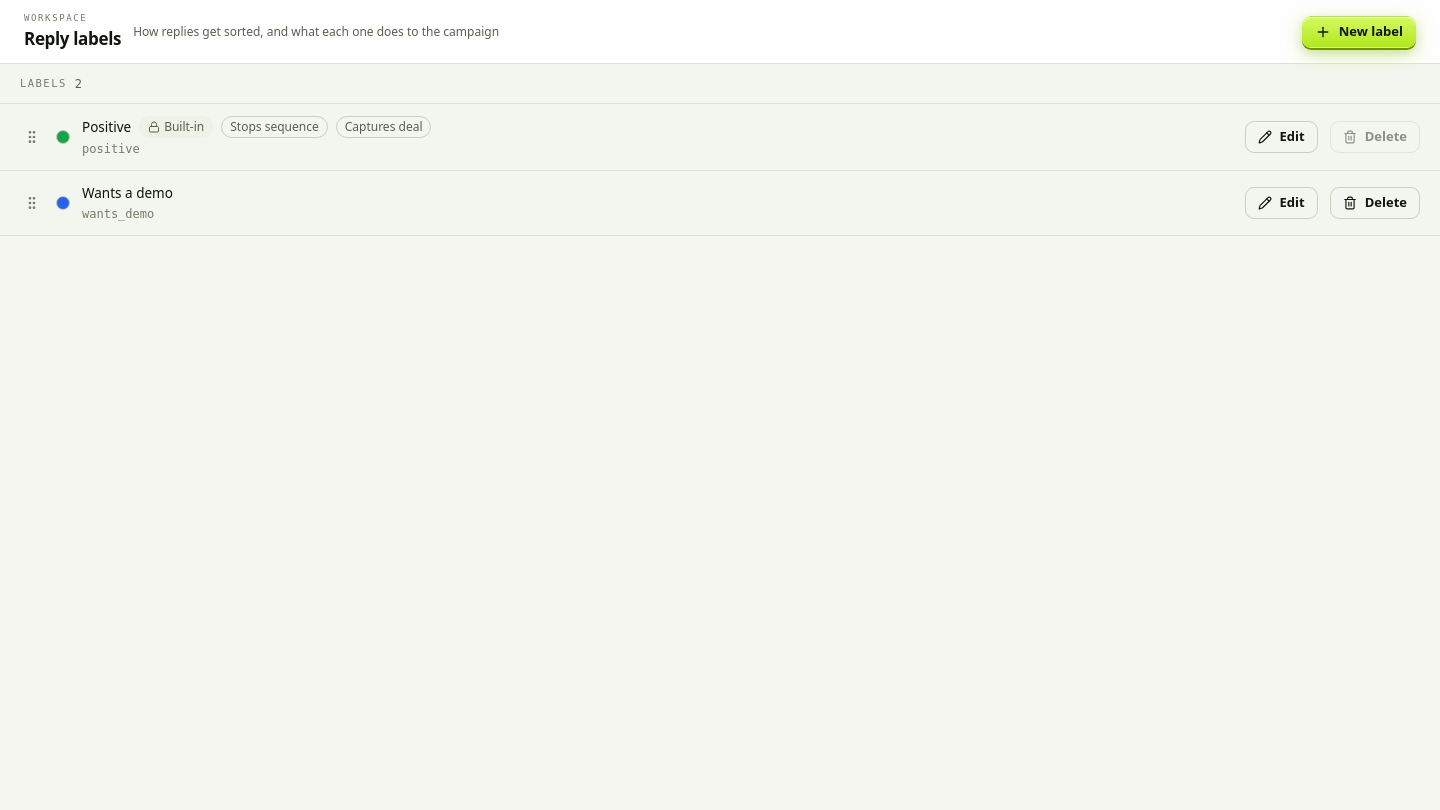
Test: a successful delete reports the outcome in the status banner
Click the button with aria-label "delete label wants a demo" at point(1375, 203), box [1330,187,1420,219]
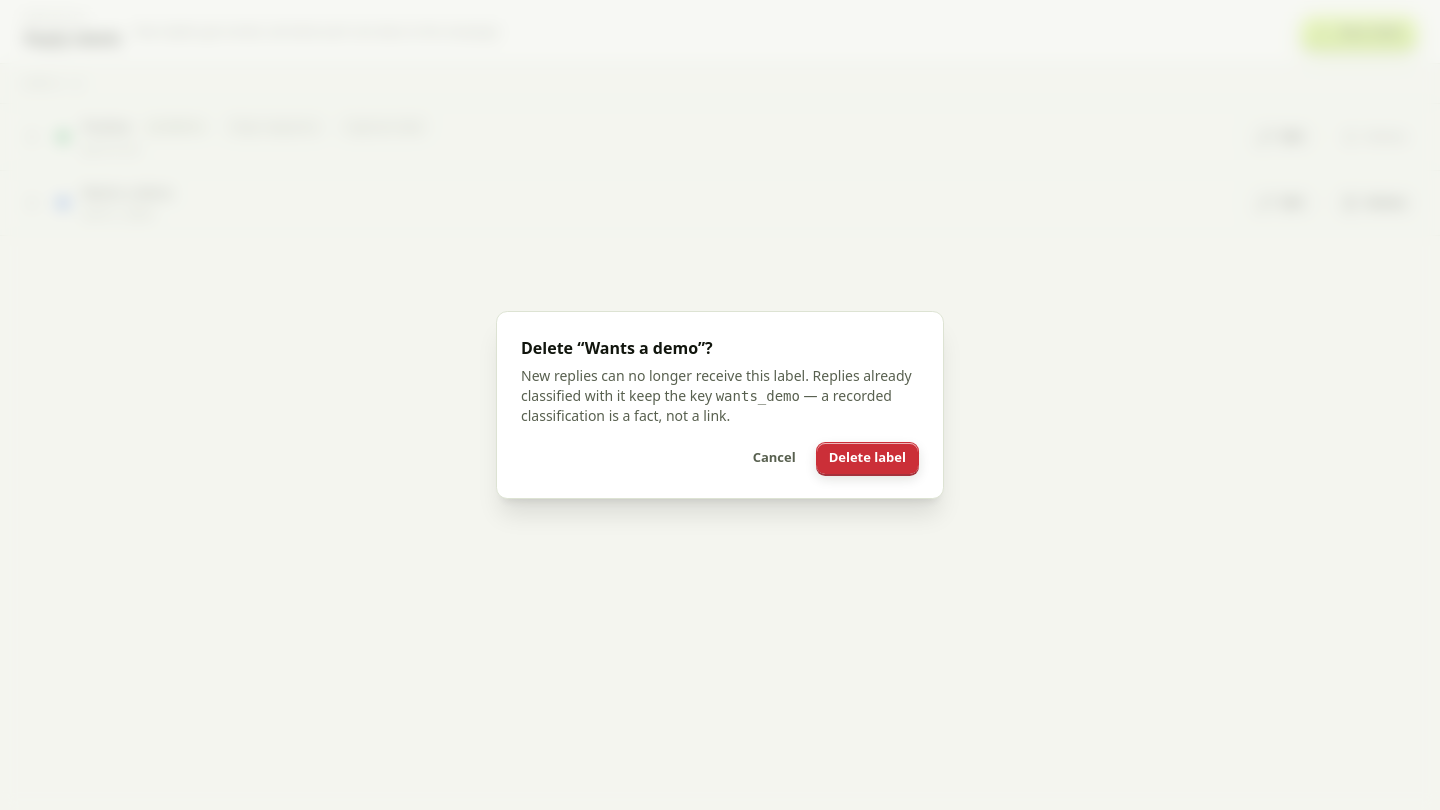
Click the button "Delete label" at point(867, 458), box [816,442,919,474]
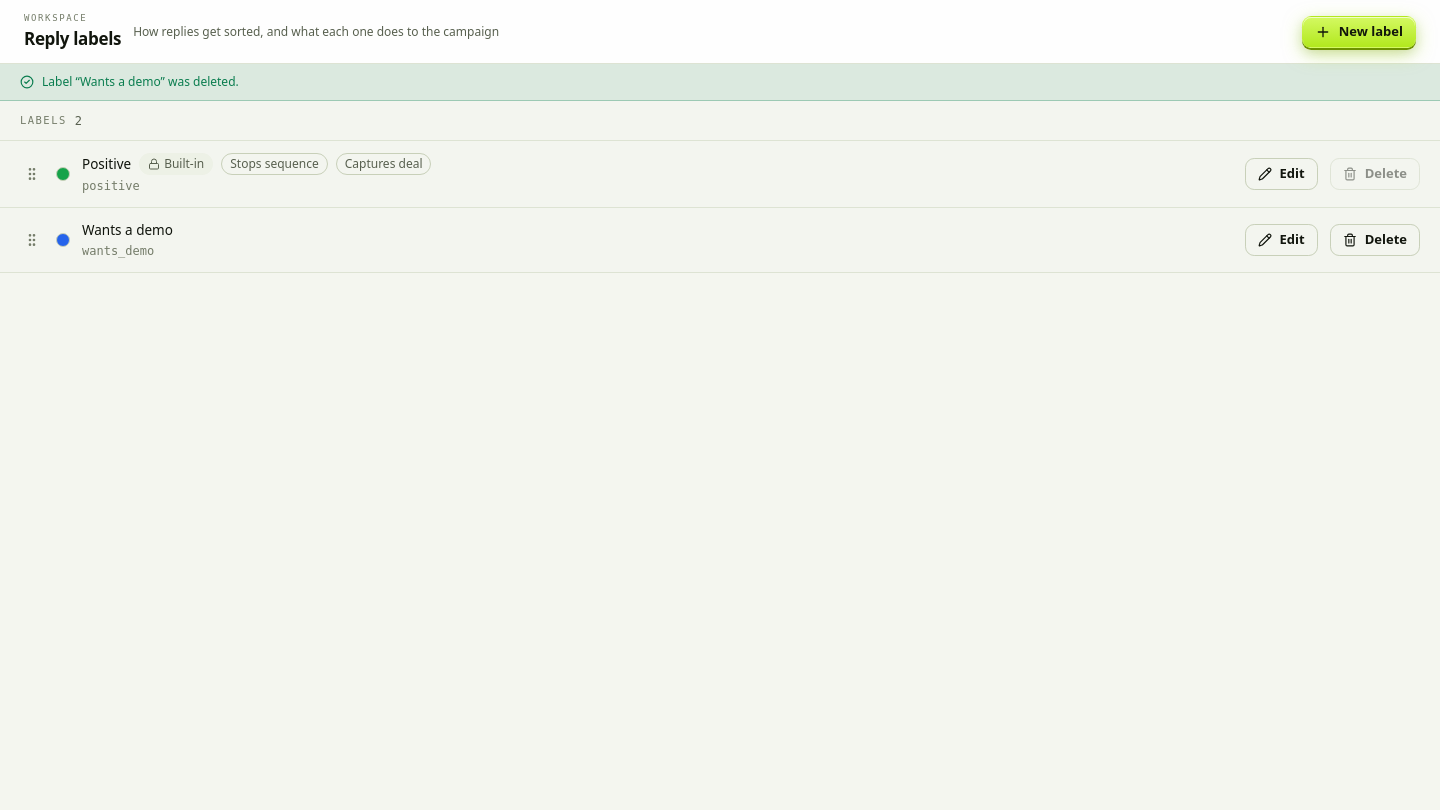
Expected: the text "Label “Wants a demo” was deleted." is shown, [0,64,1439,101]
